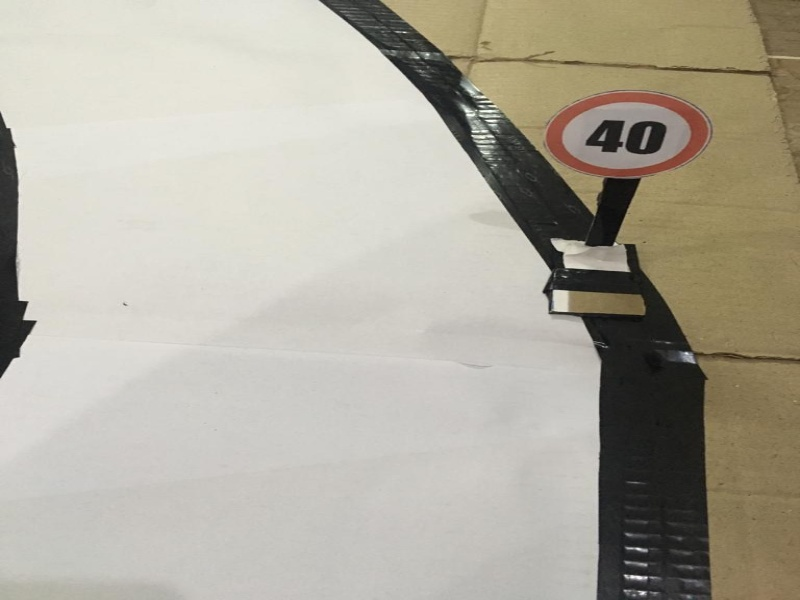Speed Limit 40: (542, 79, 714, 177)
